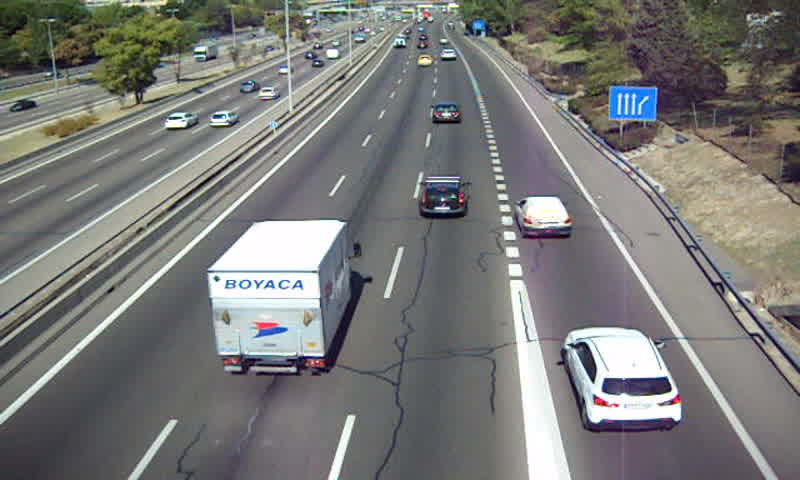car: (564, 328, 683, 432), (515, 196, 572, 237), (418, 175, 467, 217), (429, 103, 461, 125), (440, 48, 458, 61), (416, 54, 433, 67)
small-truck: (206, 220, 354, 376)
